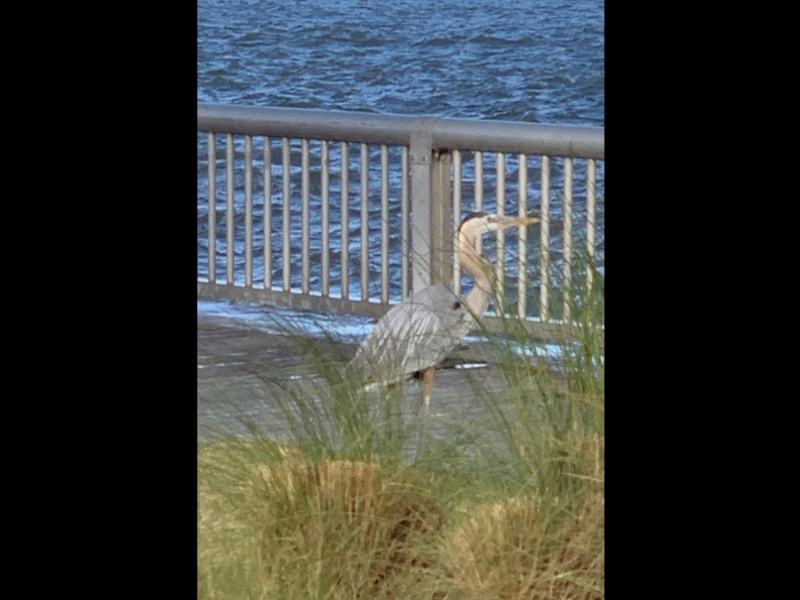heron: (345, 209, 540, 444)
